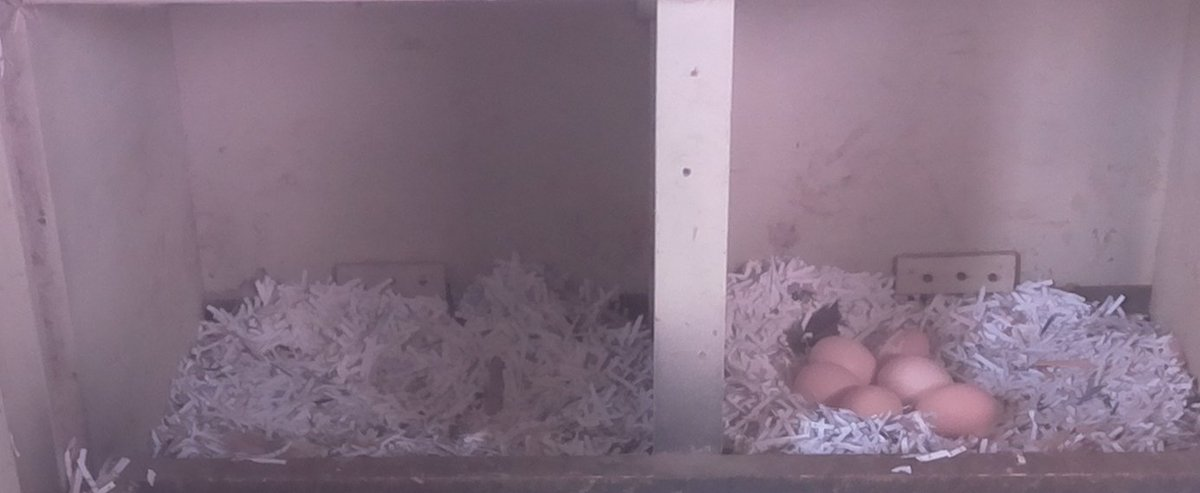egg: (910, 384, 1006, 442), (805, 332, 880, 387), (868, 355, 962, 394), (789, 358, 864, 405), (870, 317, 934, 368), (837, 381, 905, 425)
